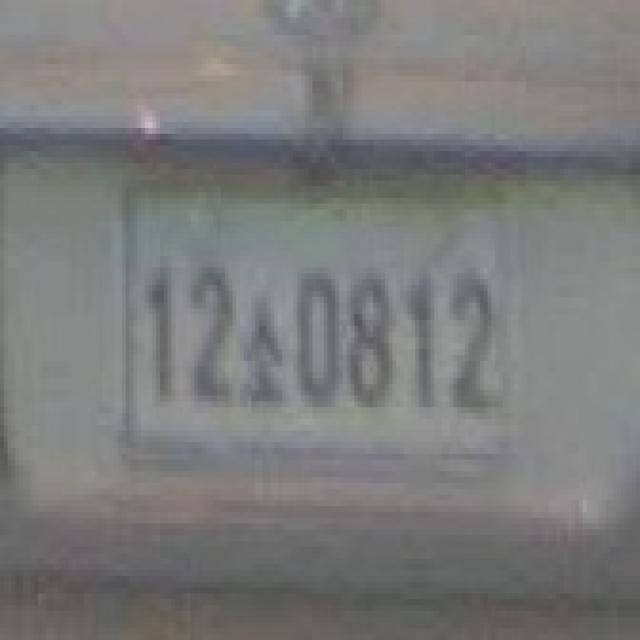0: (290, 256, 346, 419)
1: (133, 262, 183, 419), (396, 274, 442, 431)
2: (442, 262, 514, 425), (190, 262, 240, 419)
8: (339, 262, 396, 419)
license_plate: (114, 180, 522, 489)
so: (244, 285, 289, 419)
